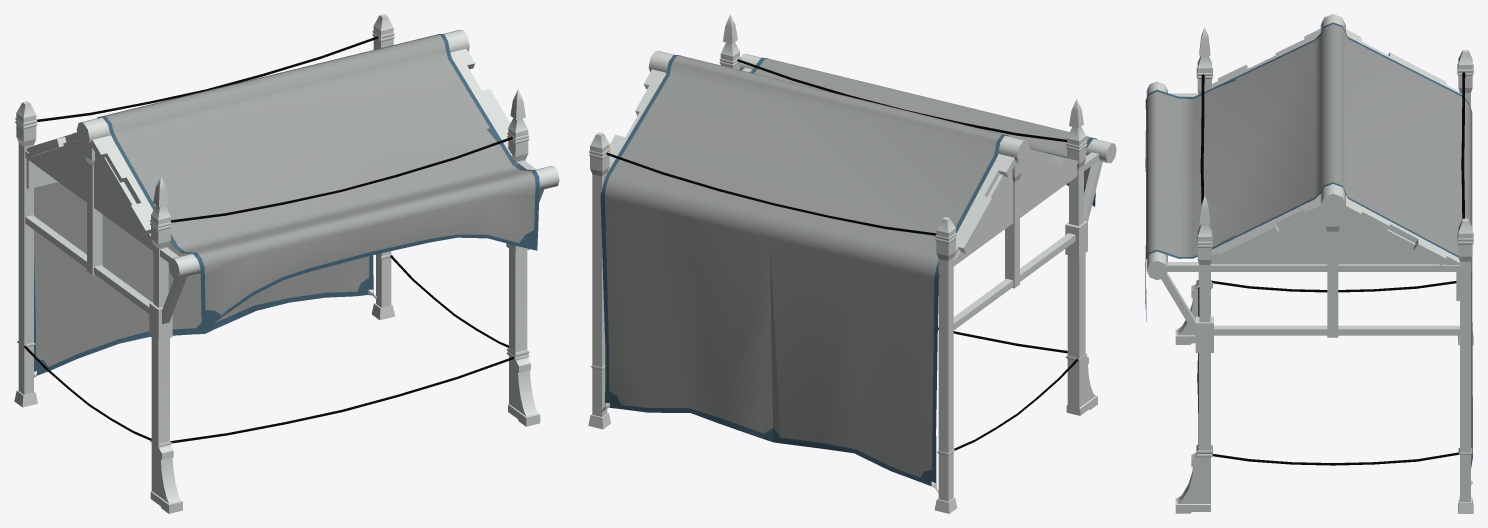
3 renders of one model, left to right at view 1: azimuth 30°, elevation 25°; view 2: azimuth 150°, elevation 25°; view 3: azimuth 270°, elevation 25°, orthographic. The views are drawn at different scales.
Visible parts, largest first — view 1: G:\FFXIV-MapTools\exports\d2f3\bg\ex1\02_dra_d2\fld\d2f3\bgp (×5); view 2: G:\FFXIV-MapTools\exports\d2f3\bg\ex1\02_dra_d2\fld\d2f3\bgp (×5); view 3: G:\FFXIV-MapTools\exports\d2f3\bg\ex1\02_dra_d2\fld\d2f3\bgp (×5).
Part boxes in pixels (x1,y1,x2,y2): G:\FFXIV-MapTools\exports\d2f3\bg\ex1\02_dra_d2\fld\d2f3\bgp (×5): (14,14,559,513); G:\FFXIV-MapTools\exports\d2f3\bg\ex1\02_dra_d2\fld\d2f3\bgp (×5): (588,14,1116,513); G:\FFXIV-MapTools\exports\d2f3\bg\ex1\02_dra_d2\fld\d2f3\bgp (×5): (1145,14,1473,513).
Bounding box in the file's own units: 7.14 × 5.98 × 5.52.
